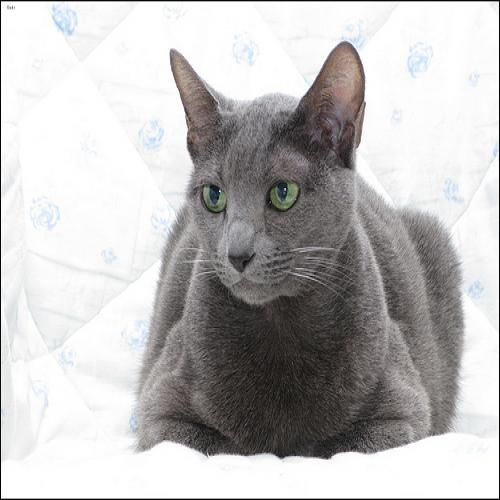rblue: (165, 32, 378, 326)
